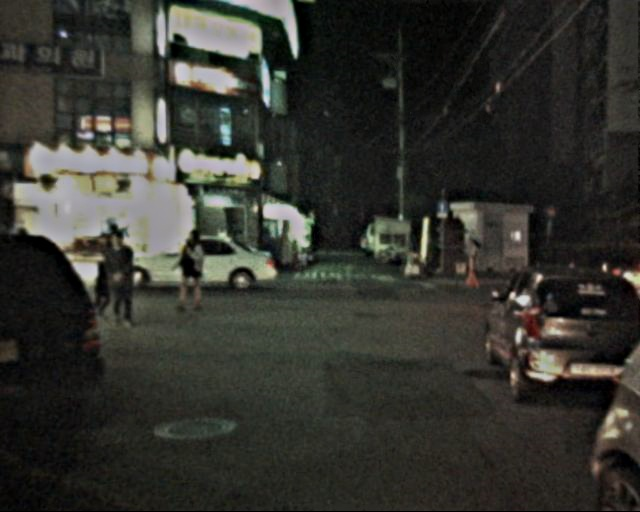person: (101, 231, 141, 325), (175, 228, 212, 314), (453, 228, 478, 287)
